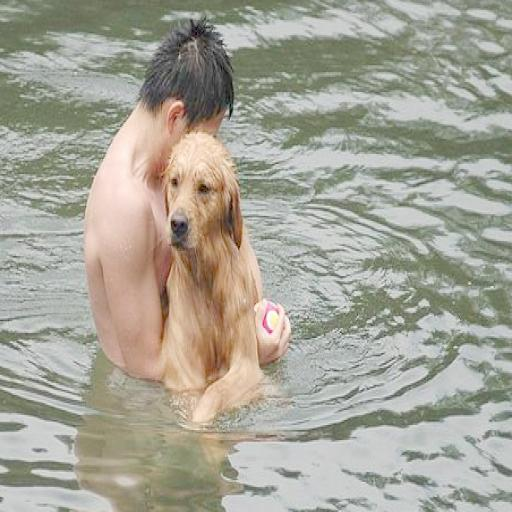dog_face: (166, 141, 244, 262)
